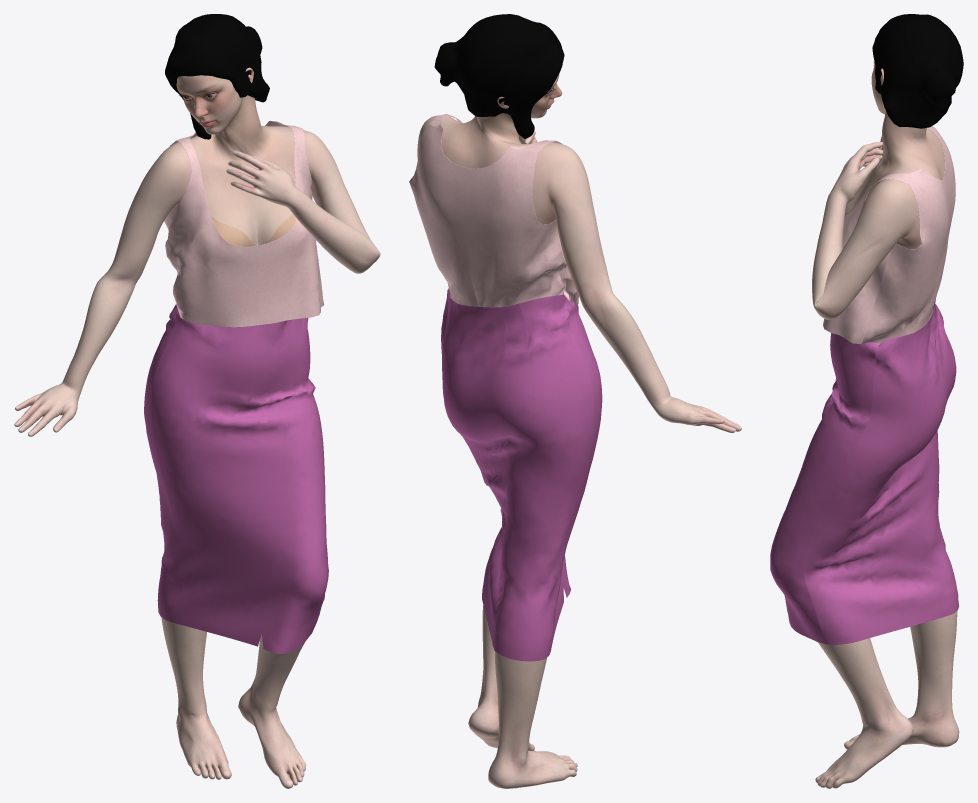
File: Dynamic.obj
The picture shows the model from 3 angles, left to right: view 1: azimuth 30°, elevation 25°; view 2: azimuth 150°, elevation 25°; view 3: azimuth 270°, elevation 25°; orthographic projection. The views are drawn at different scales.
Size of the model in its own units: 813 by 1767 by 412.
